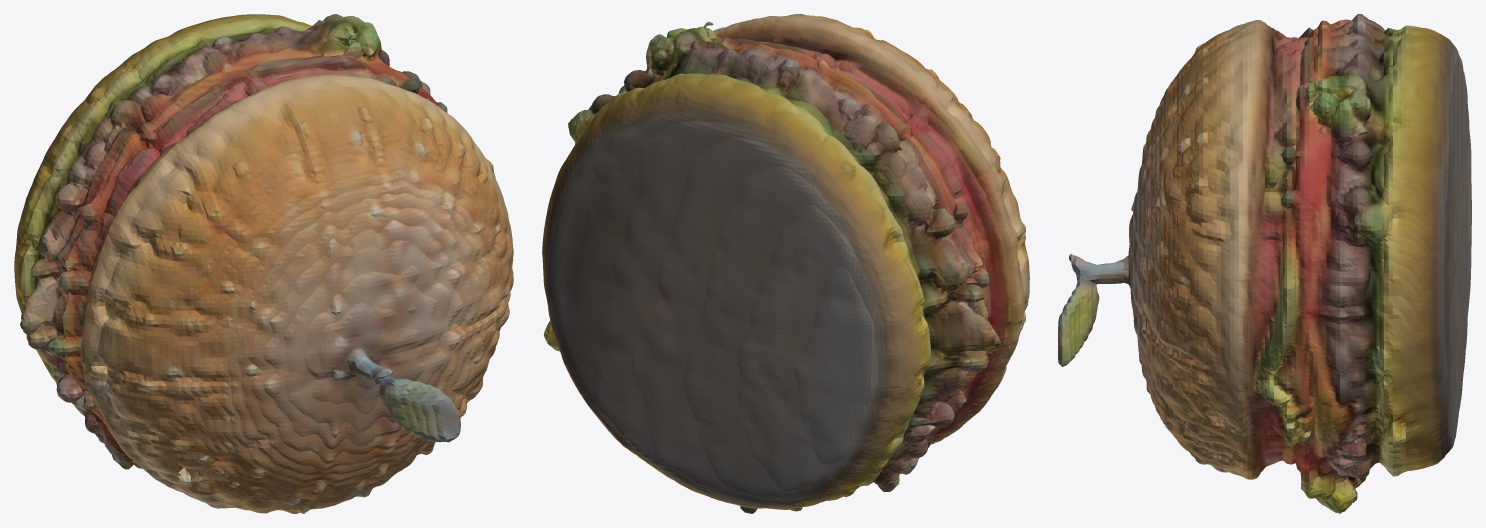
3 renders of one model, left to right at view 1: azimuth 30°, elevation 25°; view 2: azimuth 150°, elevation 25°; view 3: azimuth 270°, elevation 25°, orthographic.
Visible parts, largest first — view 1: world; view 2: world; view 3: world.
Part boxes in pixels (<box>): world: <box>14,14,513,513</box>; world: <box>542,14,1029,513</box>; world: <box>1058,14,1471,513</box>.
Size of the model in its own units: 0.7824 by 0.7831 by 0.6409.
